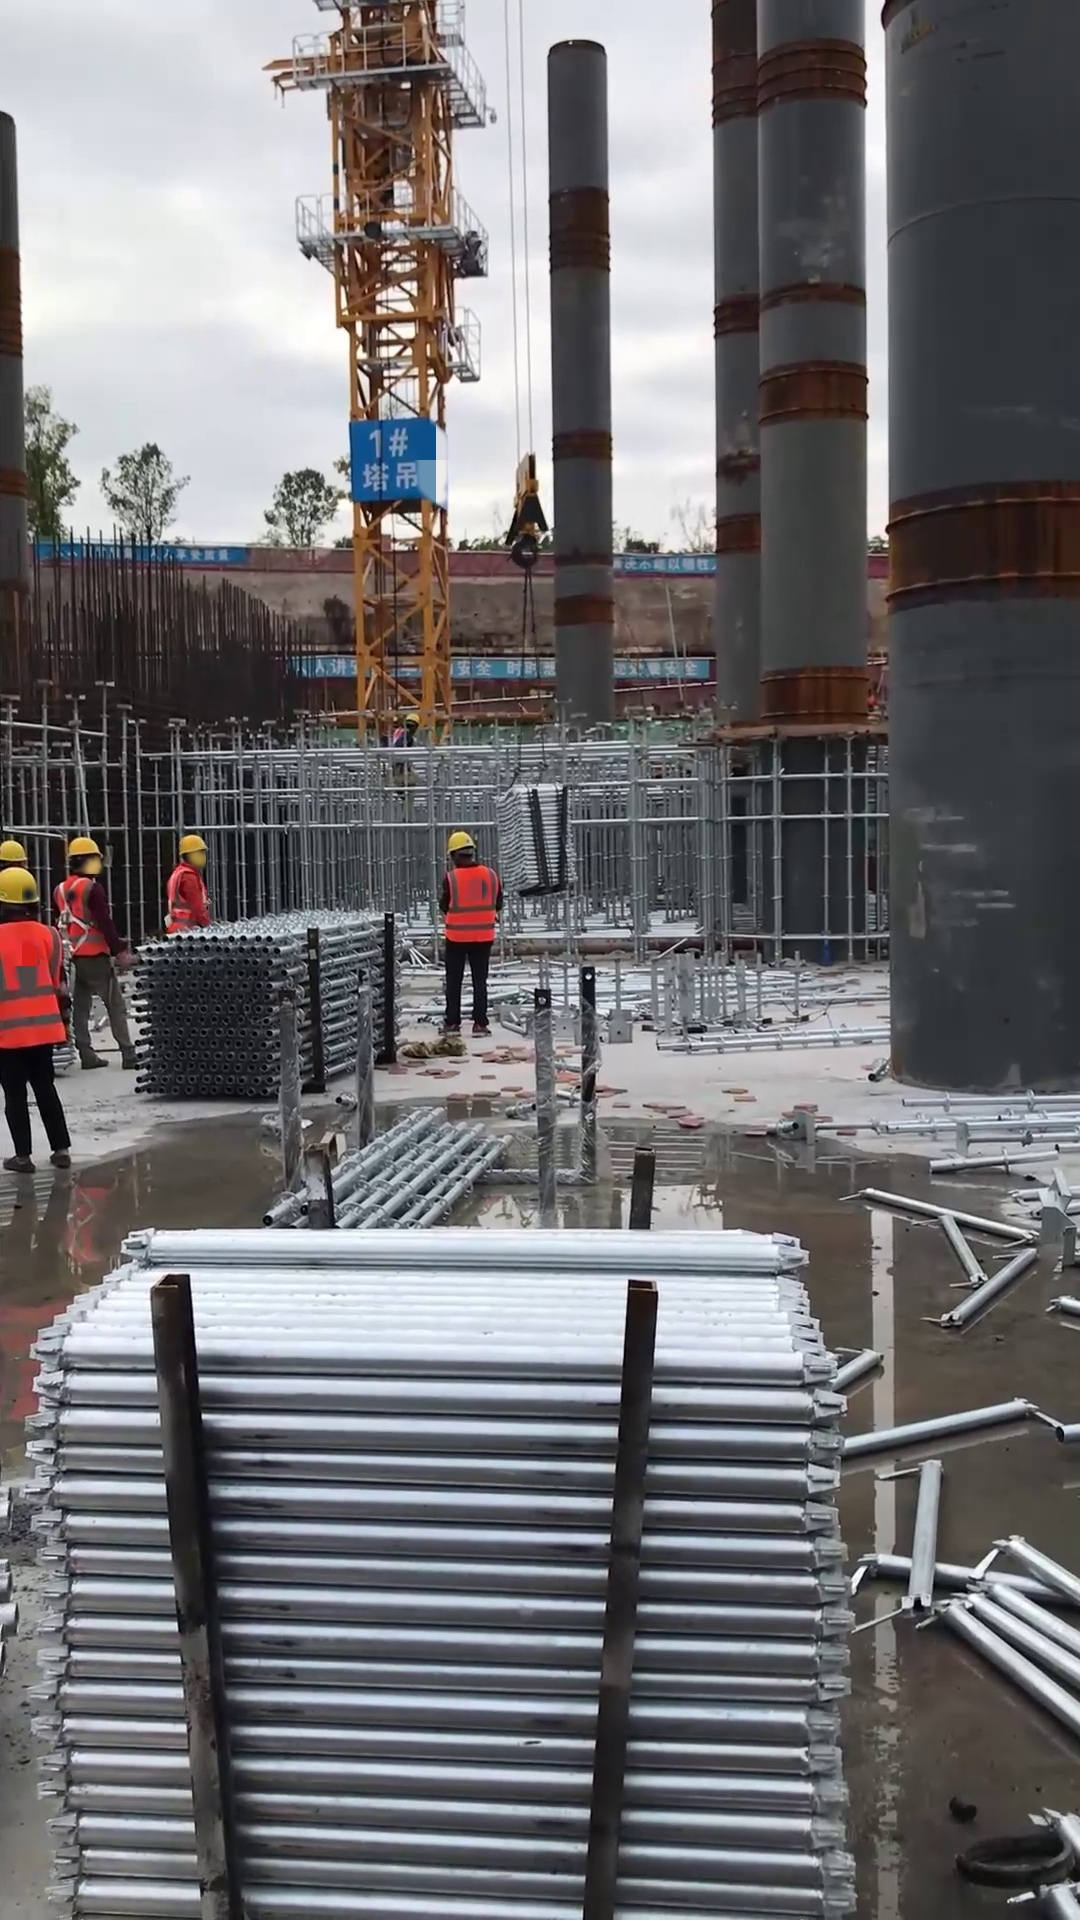helmet: (1, 866, 45, 914), (63, 836, 106, 860), (1, 838, 36, 866), (444, 830, 478, 858), (172, 833, 207, 858), (404, 711, 420, 725)
hook: (505, 446, 549, 570)
person: (1, 864, 76, 1178), (51, 832, 149, 1071), (433, 828, 504, 1038), (162, 832, 214, 938), (380, 710, 422, 748)
scaffold: (25, 1219, 865, 1920), (130, 906, 412, 1100), (259, 1104, 516, 1228), (493, 781, 578, 896)
slogan: (294, 648, 708, 681), (352, 418, 438, 501), (38, 541, 249, 566), (612, 553, 716, 575)
vest: (1, 918, 69, 1054), (51, 870, 115, 960), (439, 861, 501, 943), (162, 862, 210, 932)
